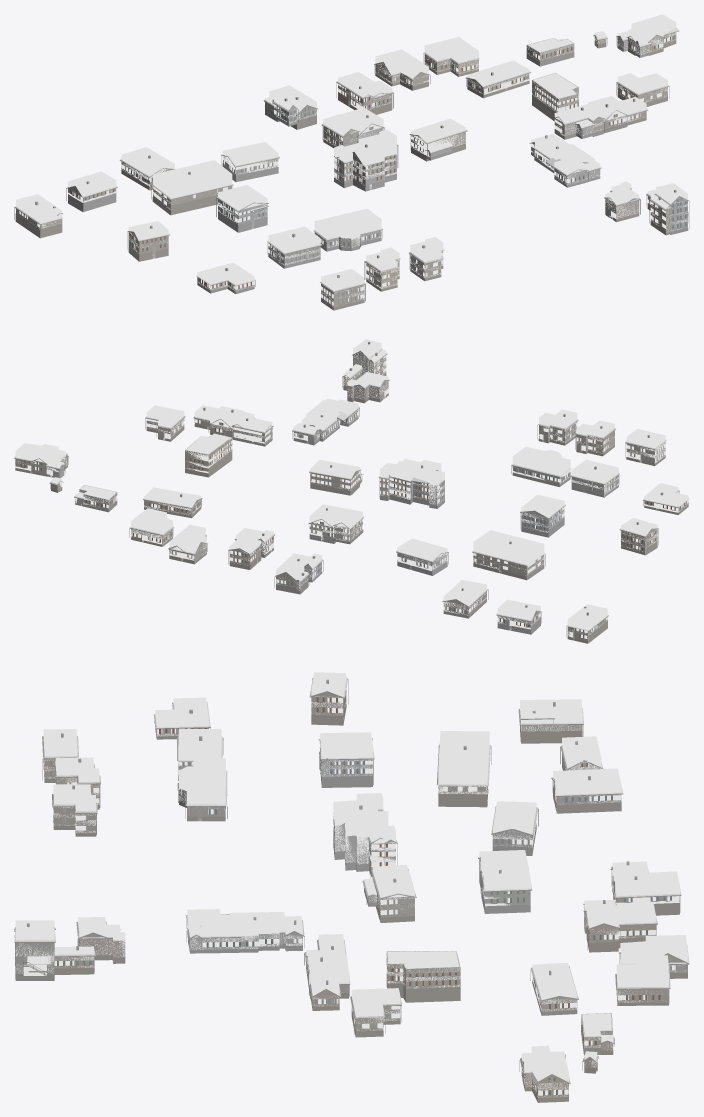
3 views of the same model, one above another, from view 1: azimuth 30°, elevation 25°; view 2: azimuth 150°, elevation 25°; view 3: azimuth 270°, elevation 25° (orthographic). The views are drawn at different scales.
Parts seen in each view (by area): view 1: col, bld; view 2: col, bld; view 3: col, bld.
Part boxes in pixels (left/top/right/bottom): col: left=16, top=14, right=688, bottom=310; bld: left=14, top=27, right=689, bottom=310; col: left=15, top=339, right=688, bottom=638; bld: left=14, top=341, right=689, bottom=643; col: left=15, top=672, right=687, bottom=1097; bld: left=14, top=677, right=689, bottom=1102.
Size of the model in its own units: 241 by 26.17 by 164.
